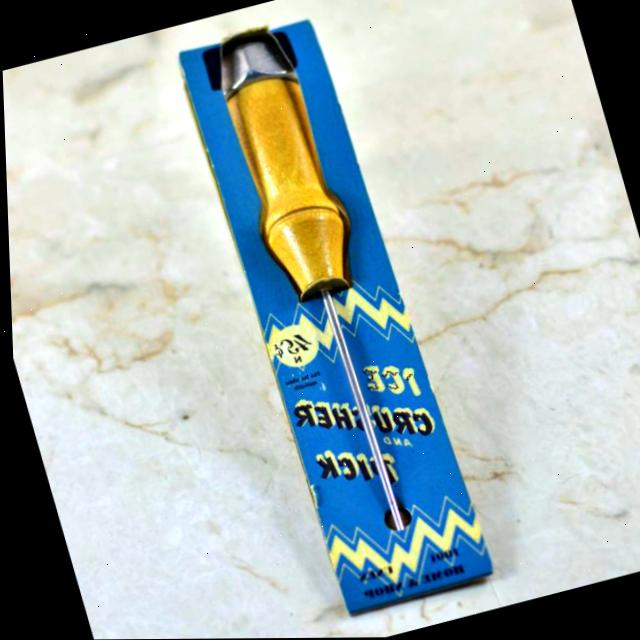ice pick: (206, 18, 433, 544)
